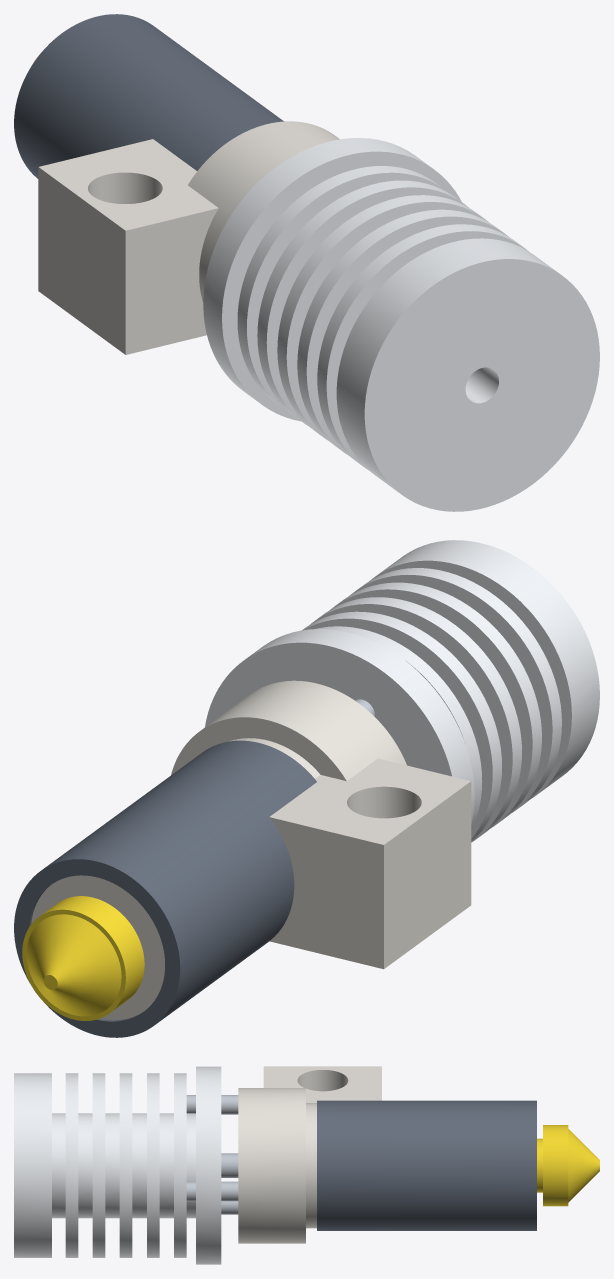
The picture shows the model from 3 angles, top to bottom: view 1: azimuth 30°, elevation 25°; view 2: azimuth 150°, elevation 25°; view 3: azimuth 270°, elevation 25°; orthographic projection. The views are drawn at different scales.
Parts seen in each view (by area): view 1: goliath_air_heatsink, goliath_copper_melt_block, goliath_silicone_sock; view 2: goliath_air_heatsink, goliath_copper_melt_block, goliath_silicone_sock, goliath_nozzle; view 3: goliath_air_heatsink, goliath_silicone_sock, goliath_copper_melt_block, goliath_nozzle, goliath_ti_posts.
Part boxes in pixels (bbox=[...]): goliath_air_heatsink: bbox=[203, 138, 599, 511]; goliath_copper_melt_block: bbox=[38, 121, 339, 354]; goliath_silicone_sock: bbox=[14, 14, 283, 178]; goliath_air_heatsink: bbox=[205, 540, 599, 842]; goliath_copper_melt_block: bbox=[31, 680, 471, 1020]; goliath_silicone_sock: bbox=[14, 740, 316, 1037]; goliath_nozzle: bbox=[22, 896, 144, 1020]; goliath_air_heatsink: bbox=[14, 1066, 221, 1264]; goliath_silicone_sock: bbox=[317, 1100, 536, 1230]; goliath_copper_melt_block: bbox=[238, 1066, 381, 1243]; goliath_nozzle: bbox=[537, 1125, 599, 1206]; goliath_ti_posts: bbox=[186, 1095, 238, 1214].
Bounding box in the file's own units: 0.0277 × 0.0234 × 0.0692.
